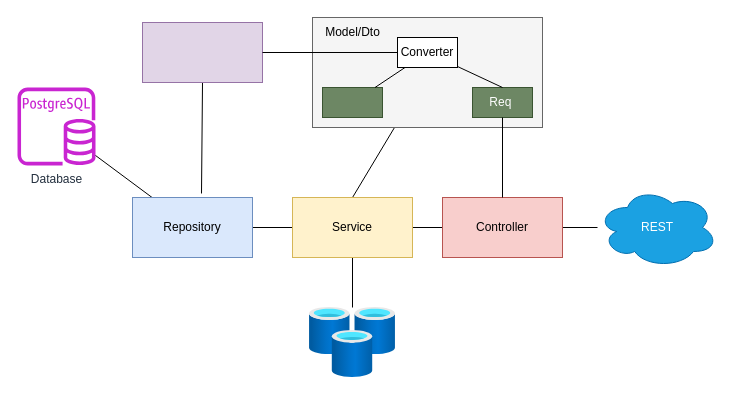
The diagram is 735 pixels wide and 416 high, and some of its shapes have lost their labels. Each missing label, with the box of its shape:
Entity: (142, 22, 262, 82)
Radis: (309, 307, 395, 377)
Resp: (322, 86, 382, 118)
